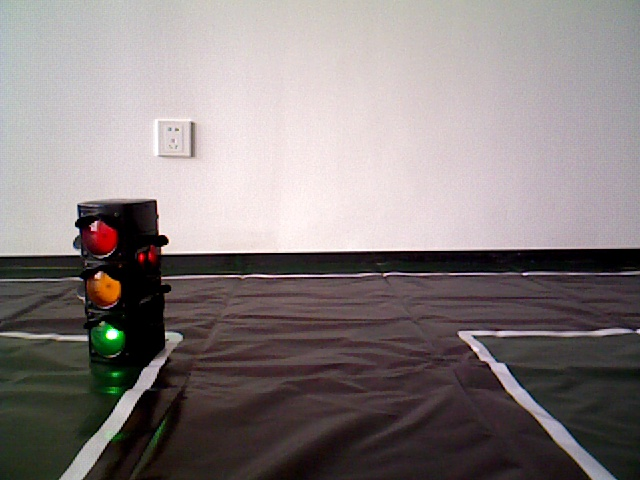green: (76, 207, 156, 354)
